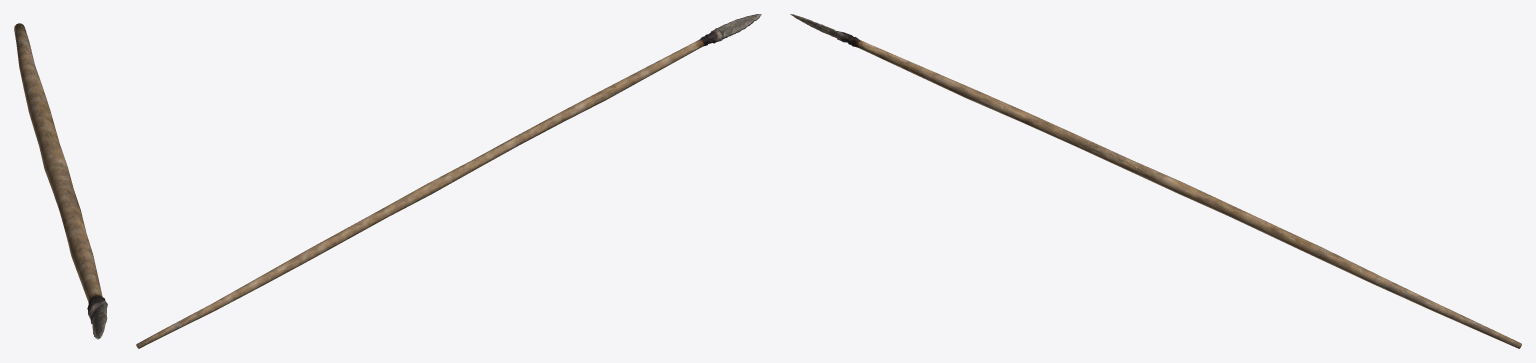
Rendered from SK_PrehistoricSpear_JesusMolina.glb.
The picture shows the model from 3 angles, left to right: view 1: azimuth 90°, elevation 25°; view 2: azimuth 210°, elevation 25°; view 3: azimuth 330°, elevation 25°; orthographic projection. The views are drawn at different scales.
Parts seen in each view (by area): view 1: Full StickLanza_0; view 2: Full StickLanza_0; view 3: Full StickLanza_0.
Part boxes in pixels (x1,y1,x2,y2): Full StickLanza_0: (14,23,107,339); Full StickLanza_0: (136,14,761,348); Full StickLanza_0: (790,14,1521,348).
Size of the model in its own units: 4.39 by 1.06 by 0.2767.
2 materials, 2 textured.
